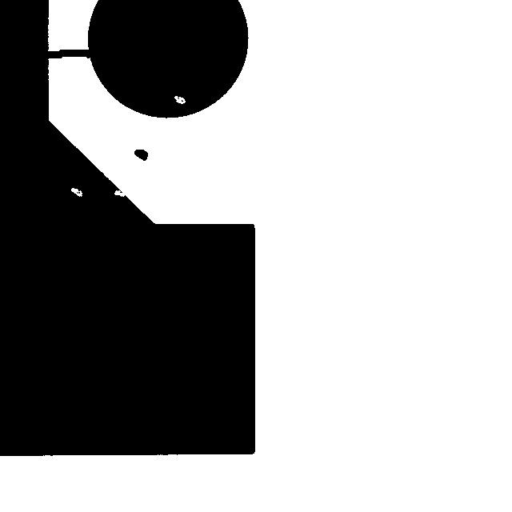copper: (126, 142, 155, 168)
mousebite: (106, 182, 133, 204)
pin-hole: (63, 180, 90, 204), (166, 88, 193, 111)
short: (36, 42, 102, 66)
